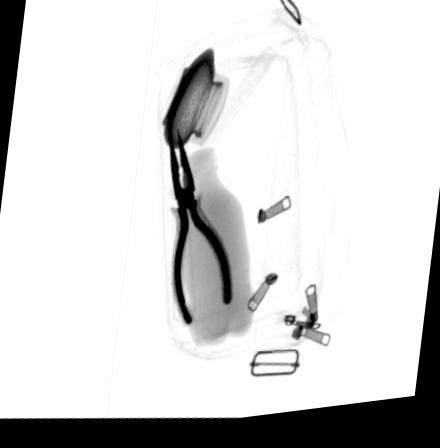Pliers: (168, 131, 233, 330)
